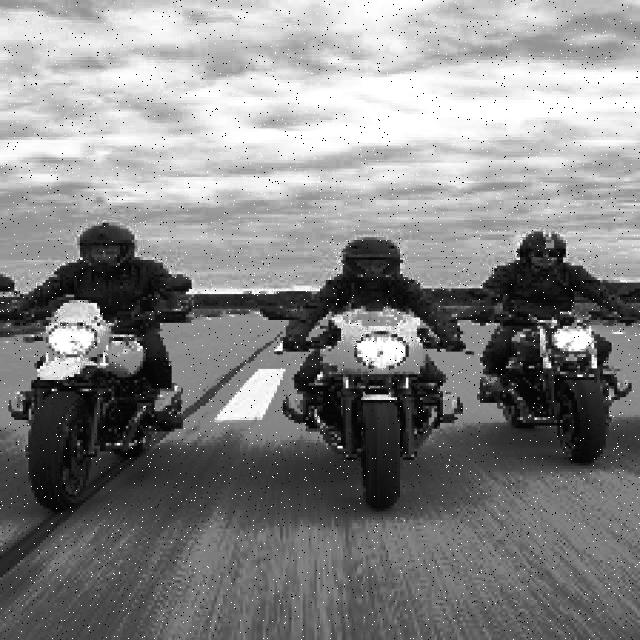Bike: (285, 311, 471, 515), (23, 295, 178, 517), (490, 293, 628, 463)
